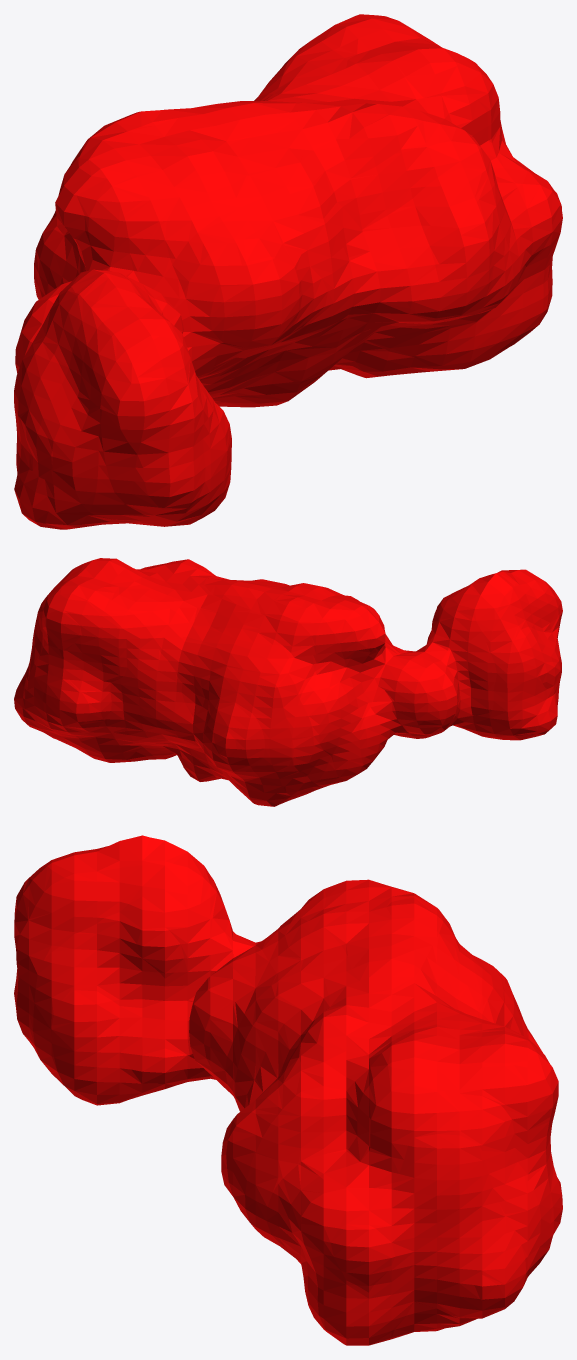
Rendered from ycjW_coarse.dae.
3 views of the same model, one above another, from view 1: azimuth 30°, elevation 25°; view 2: azimuth 150°, elevation 25°; view 3: azimuth 270°, elevation 25° (orthographic). The views are drawn at different scales.
Visible parts, largest first — view 1: ycjW; view 2: ycjW; view 3: ycjW.
Part boxes in pixels (x1=…): ycjW: x1=14, y1=14, x2=562, y2=529; ycjW: x1=14, y1=558, x2=562, y2=806; ycjW: x1=14, y1=835, x2=562, y2=1345.
Bounding box in the file's own units: 84.12 × 37.93 × 63.13.
